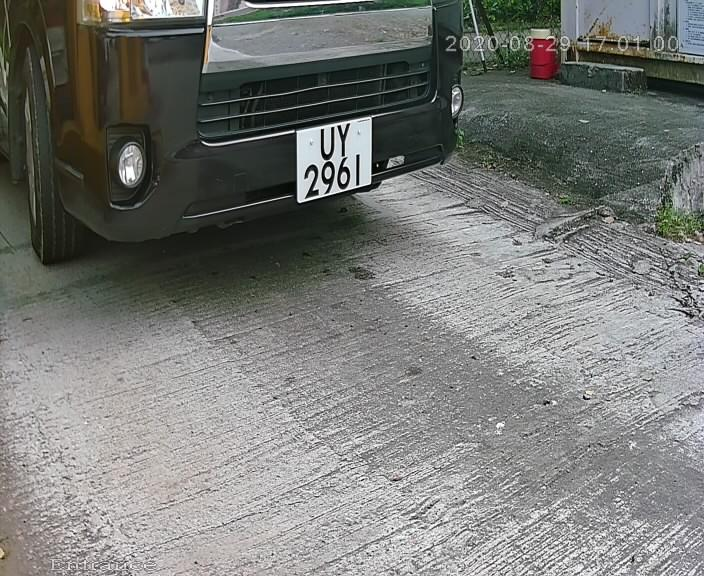Car: (19, 1, 532, 307)
License Plate: (280, 111, 381, 209)
